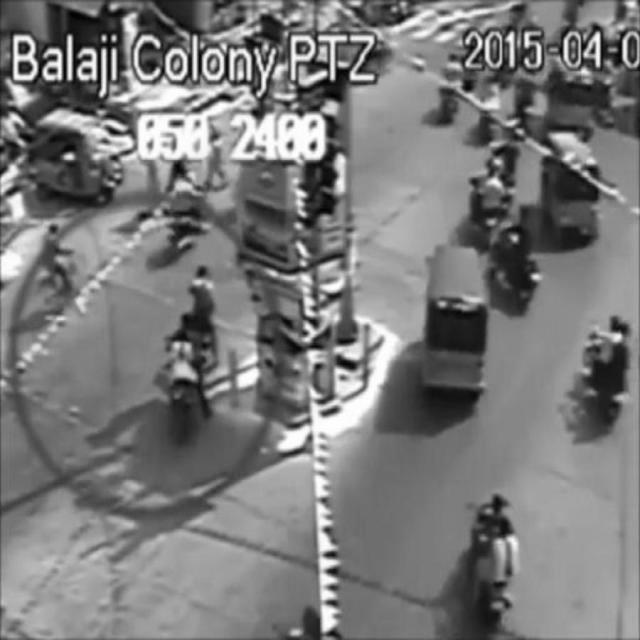accident: (149, 259, 231, 439)
vehicle: (427, 242, 489, 406), (465, 494, 529, 635), (32, 101, 120, 203), (540, 133, 604, 241), (34, 221, 95, 321), (486, 217, 546, 315), (579, 318, 634, 424), (469, 160, 517, 231)
